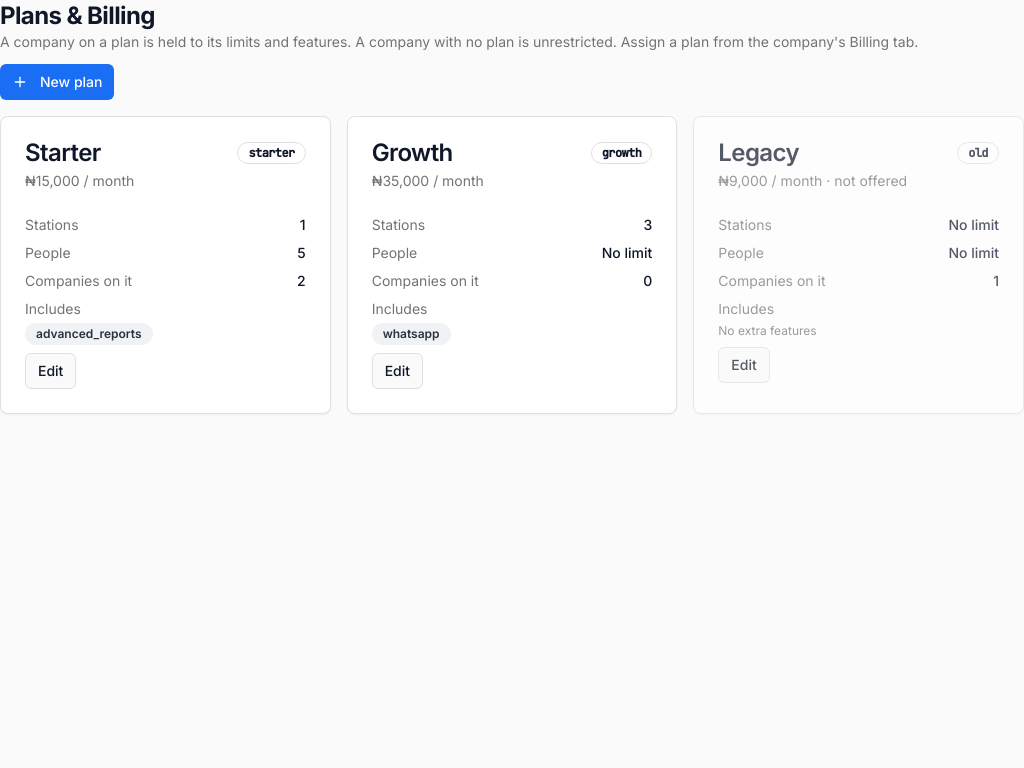
Test: plans › editing uses the same switches, starting from what the plan includes
Click the button with aria-label "Edit Starter".
click(51, 371)  # box [25, 353, 76, 389]
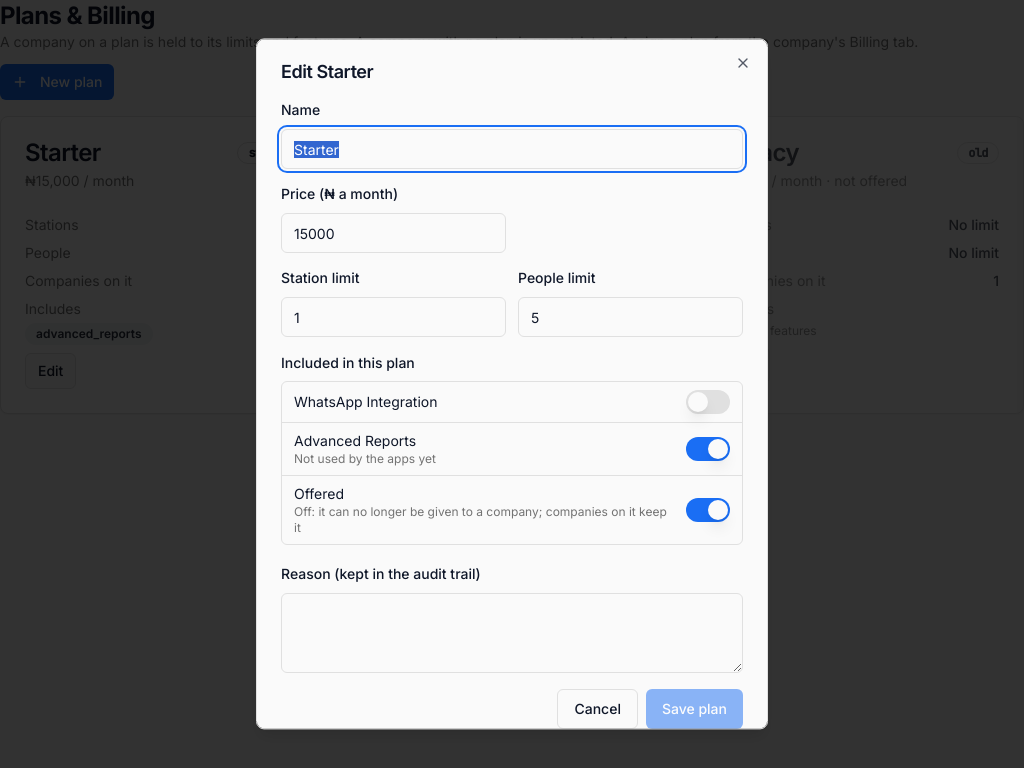
Now the switch named "Advanced Reports" is checked, box [686, 437, 730, 461]
Now the switch named "WhatsApp Integration" is not checked, box [686, 390, 730, 414]
